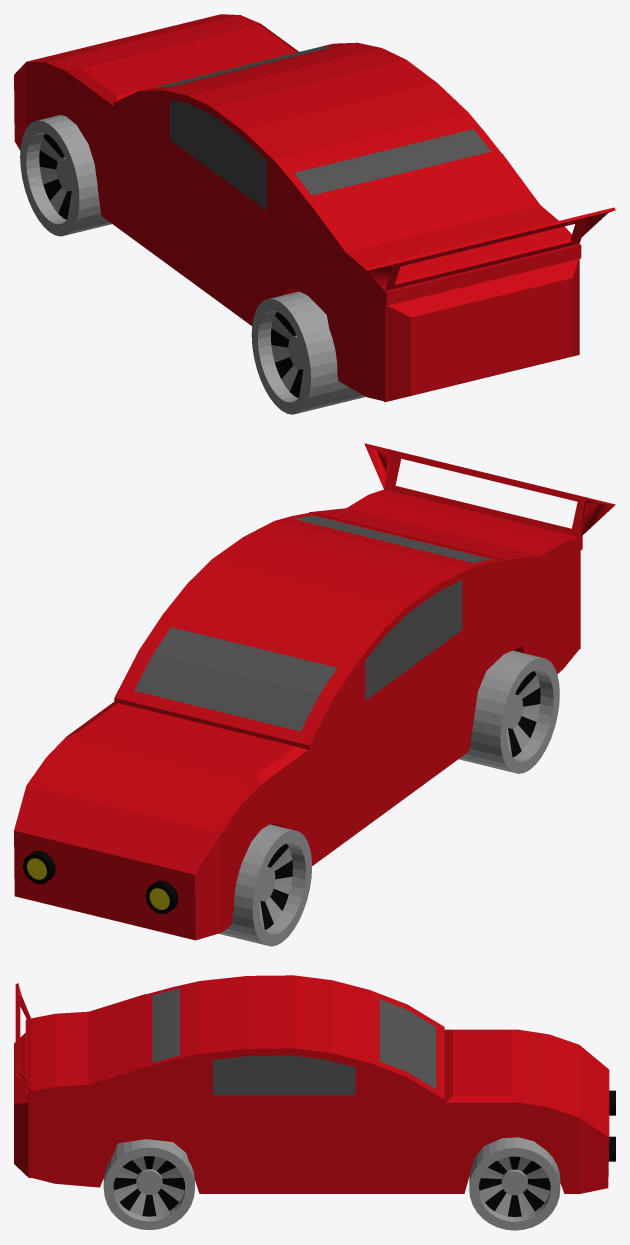
The model's file is carro rojo.obj.
3 views of the same model, one above another, from view 1: azimuth 30°, elevation 25°; view 2: azimuth 150°, elevation 25°; view 3: azimuth 270°, elevation 25° (orthographic). The views are drawn at different scales.
Parts seen in each view (by area): view 1: Object_8, Object_9, Object_2, Object_0, Object_1, Object_3; view 2: Object_8, Object_9, Object_2, Object_0, Object_3, Object_1; view 3: Object_8, Object_9, Object_4, Object_6, Object_7, Object_5.
Boxes of the visible parts, box(x1,y1,x2,y2) form: Object_8: box(14, 14, 615, 402); Object_9: box(154, 46, 491, 210); Object_2: box(251, 291, 365, 414); Object_0: box(20, 115, 111, 236); Object_1: box(39, 134, 71, 219); Object_3: box(271, 312, 303, 398); Object_8: box(14, 443, 615, 940); Object_9: box(134, 515, 491, 731); Object_2: box(459, 650, 559, 773); Object_0: box(219, 824, 311, 946); Object_3: box(508, 671, 540, 757); Object_1: box(260, 843, 292, 929); Object_8: box(14, 975, 609, 1193); Object_9: box(152, 988, 436, 1095); Object_4: box(469, 1137, 560, 1230); Object_6: box(103, 1139, 194, 1230); Object_7: box(113, 1156, 185, 1216); Object_5: box(479, 1156, 550, 1216).
Size of the model in its own units: 172 by 149 by 467.
